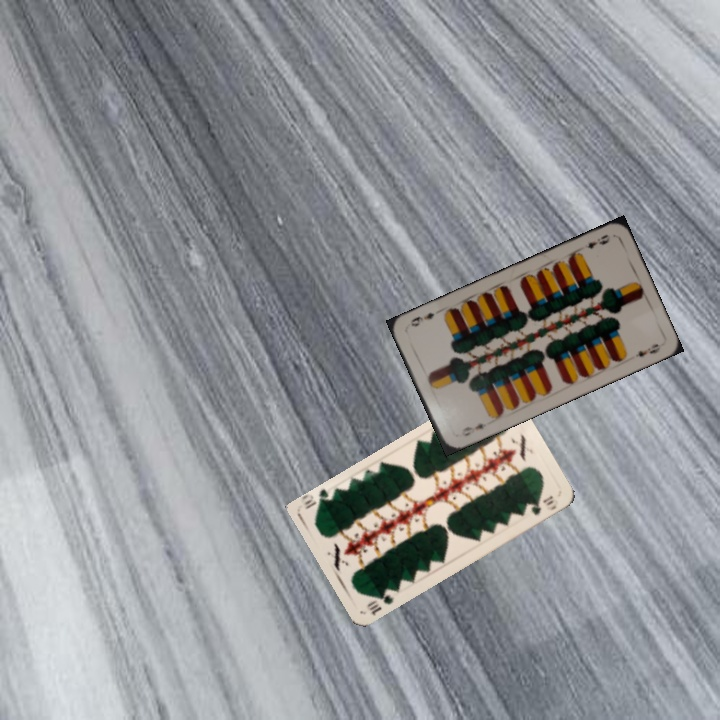E9: (581, 230, 613, 252), (458, 419, 489, 439)
G10: (363, 585, 397, 618)
